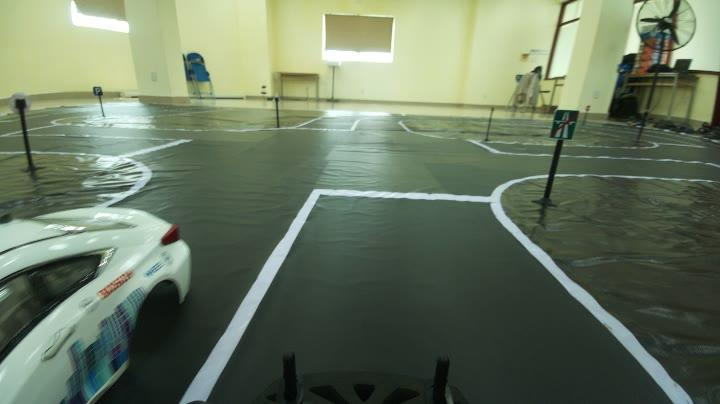car: (4, 194, 195, 404)
highway_exit: (552, 98, 584, 155)
